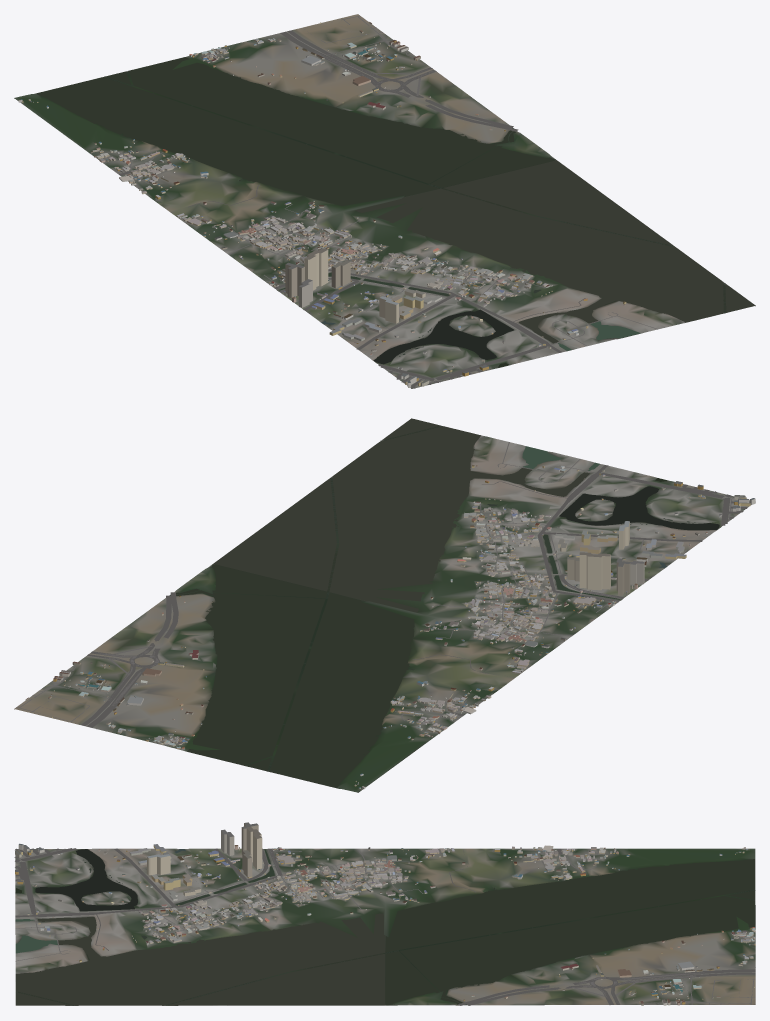
3 renders of one model, top to bottom at view 1: azimuth 30°, elevation 25°; view 2: azimuth 150°, elevation 25°; view 3: azimuth 270°, elevation 25°, orthographic. The views are drawn at different scales.
Visible parts, largest first — view 1: water, ground, buildings, roads; view 2: water, ground, buildings, roads; view 3: water, ground, buildings, roads.
Boxes of the visible parts, box(x1,y1,x2,y2) form: water: box(36, 57, 755, 367); ground: box(14, 14, 755, 388); buildings: box(18, 22, 626, 387); roads: box(103, 15, 657, 388); water: box(169, 418, 719, 787); ground: box(14, 425, 749, 792); buildings: box(25, 465, 755, 789); roads: box(16, 442, 749, 745); water: box(15, 849, 755, 1005); ground: box(15, 848, 755, 1005); buildings: box(15, 822, 755, 1005); roads: box(14, 848, 755, 1005).
Size of the model in its own units: 1430 by 135 by 2809.
